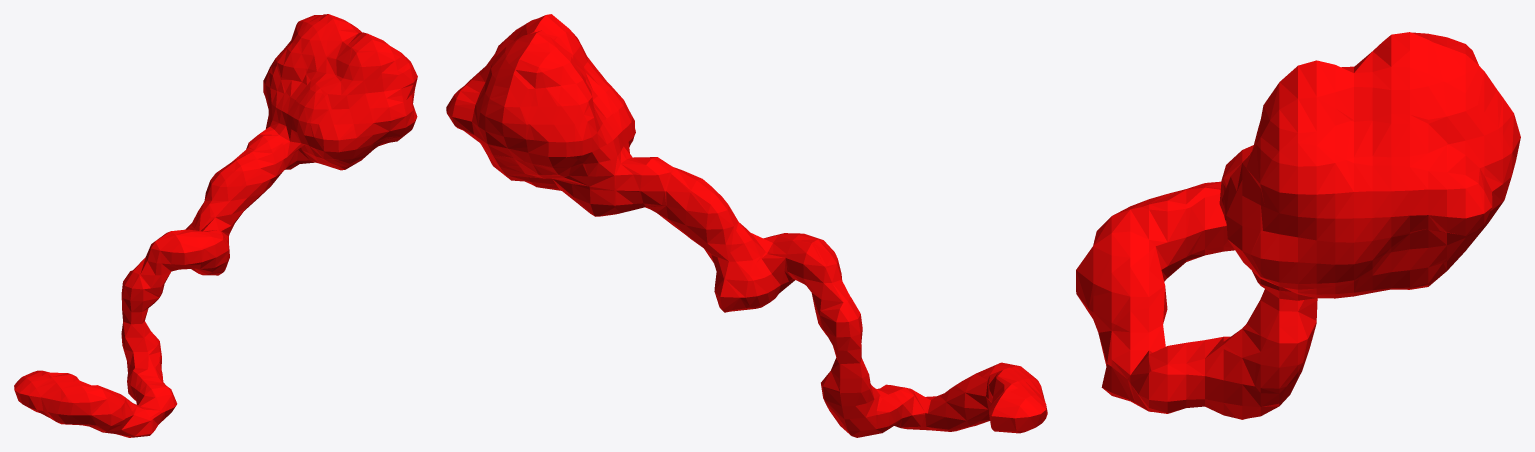
The model's file is ygaP_coarse.dae.
The picture shows the model from 3 angles, left to right: view 1: azimuth 30°, elevation 25°; view 2: azimuth 150°, elevation 25°; view 3: azimuth 270°, elevation 25°; orthographic projection. The views are drawn at different scales.
Parts seen in each view (by area): view 1: ygaP; view 2: ygaP; view 3: ygaP.
Boxes of the visible parts, x1=… form: ygaP: x1=14, y1=14, x2=417, y2=437; ygaP: x1=446, y1=14, x2=1047, y2=437; ygaP: x1=1076, y1=32, x2=1520, y2=419.
Size of the model in its own units: 123 by 85.97 by 56.22.
